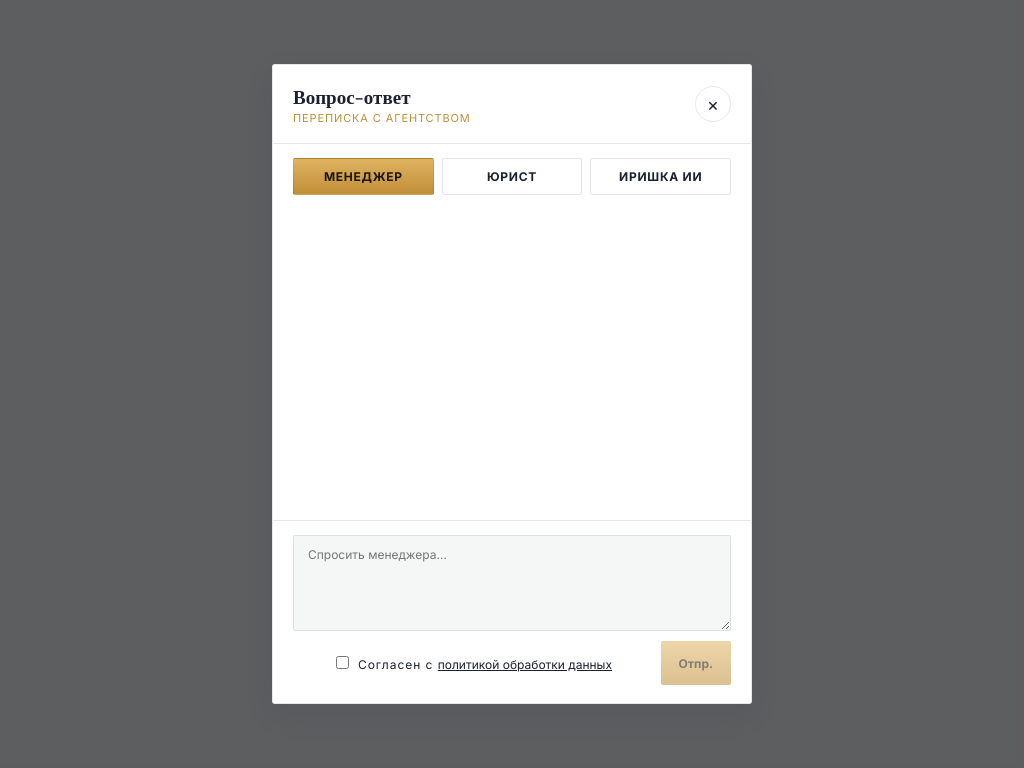
Test case: QA composer footer › shows the local acknowledgement only after a manager or lawyer question is sent
In the text box with placeholder "Спросить менеджера…": point(512, 583) [293,535,731,631], type "Нужна помощь"
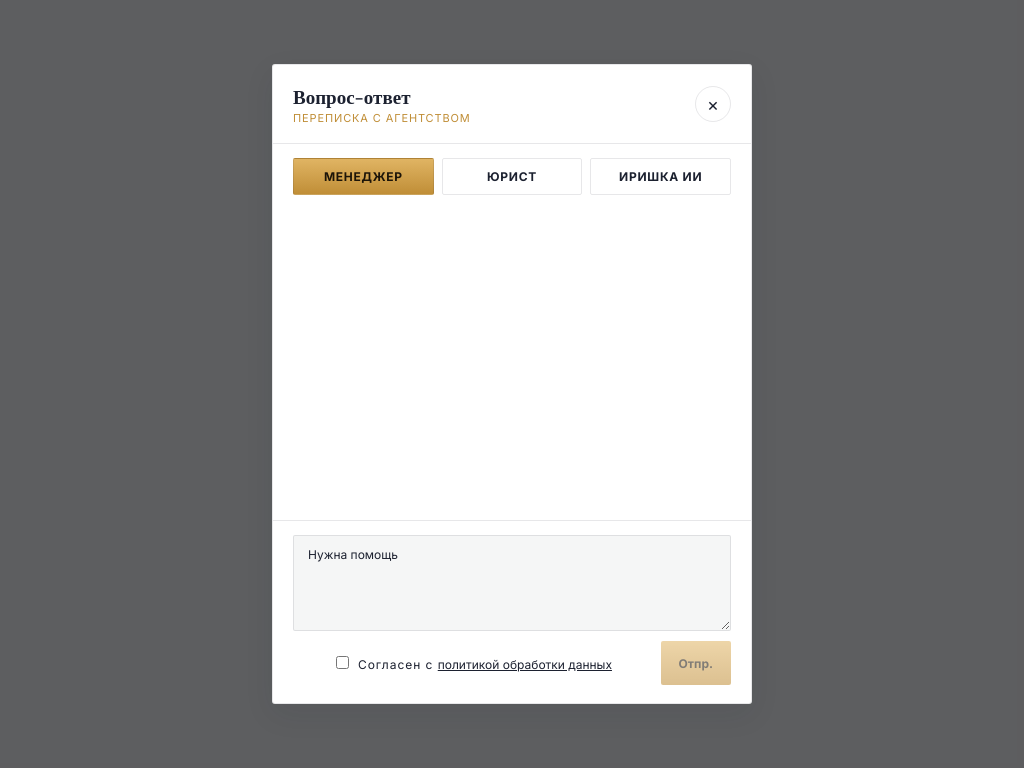
Click the checkbox: point(342, 662) [336,656,349,669]
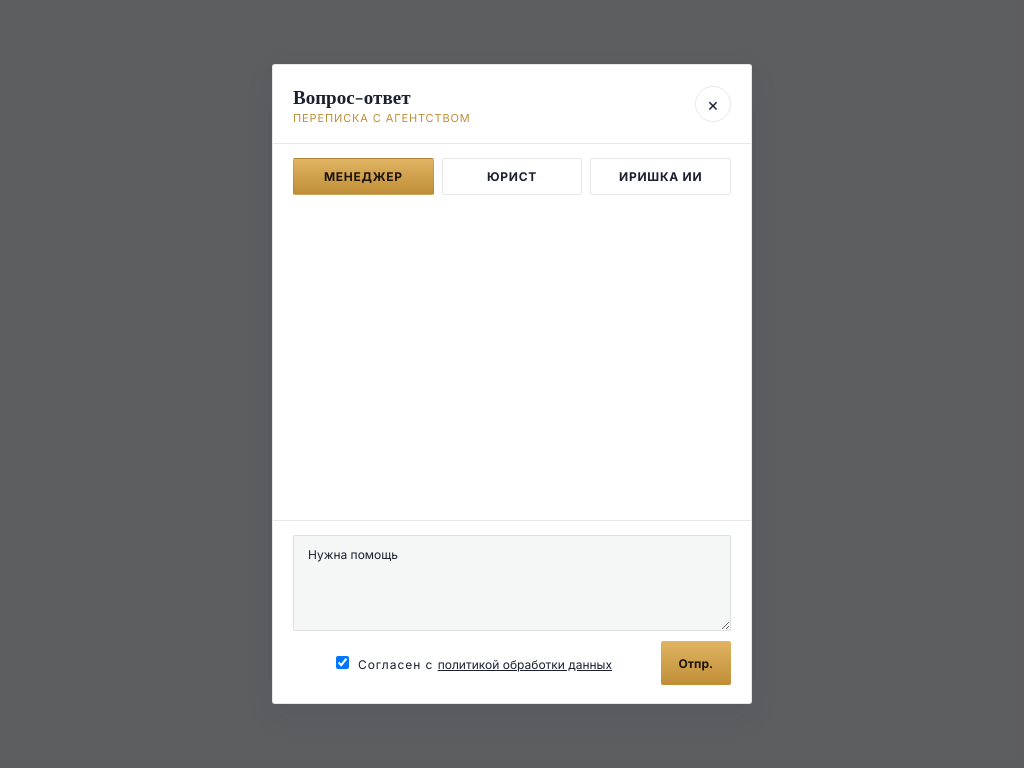
Click the button "Отпр.": point(696, 663) [661,641,731,685]
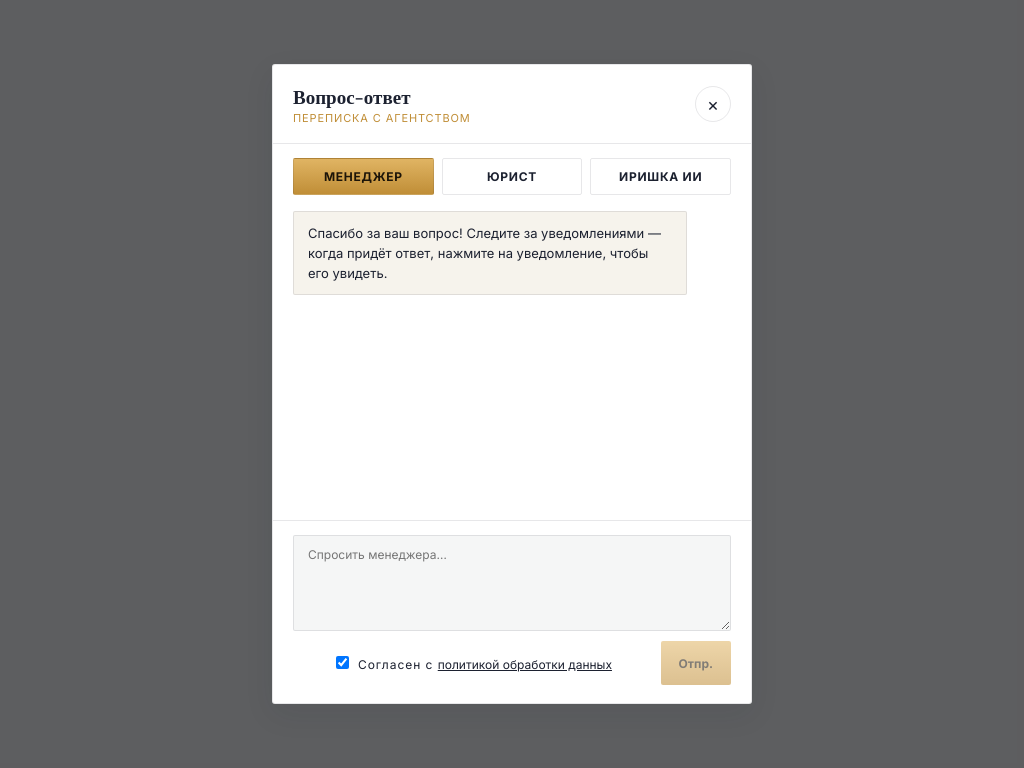
Check: the text "Спасибо за ваш вопрос! Следите за уведомлениями — когда придёт ответ, нажмите на уведомление, чтобы его увидеть." is shown, box [308,225,661,281]
Click the button "Иришка ИИ": point(661, 176) [590,158,731,195]
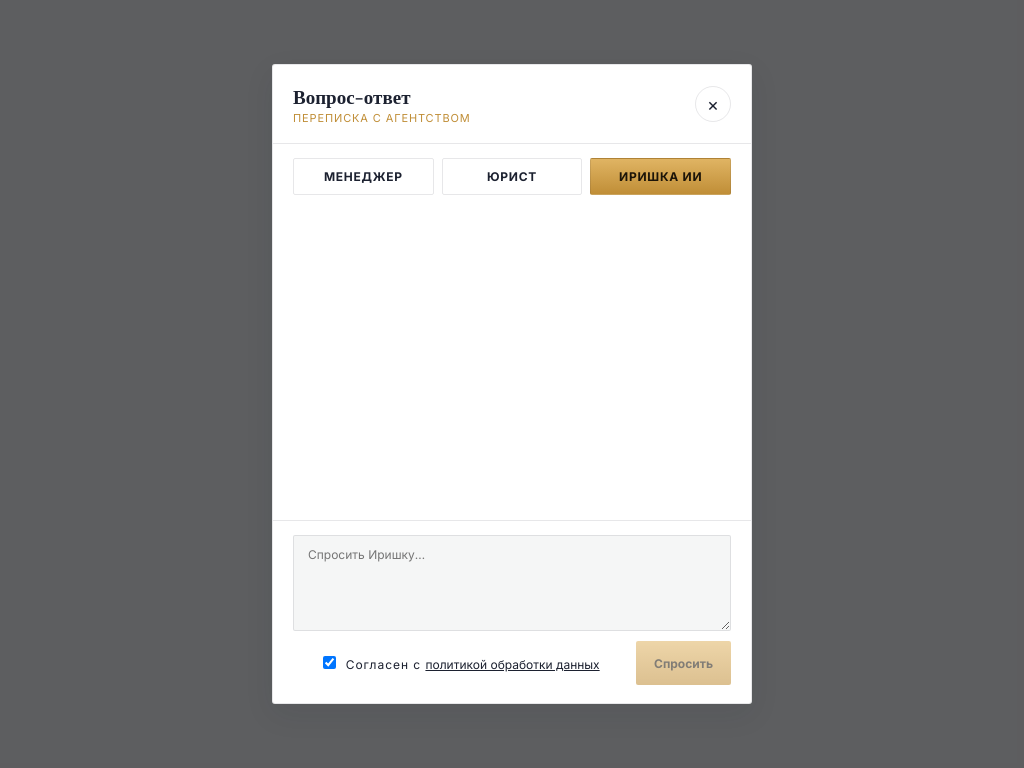
Check: the text "Спасибо за ваш вопрос! Следите за уведомлениями — когда придёт ответ, нажмите на уведомление, чтобы его увидеть." is gone
